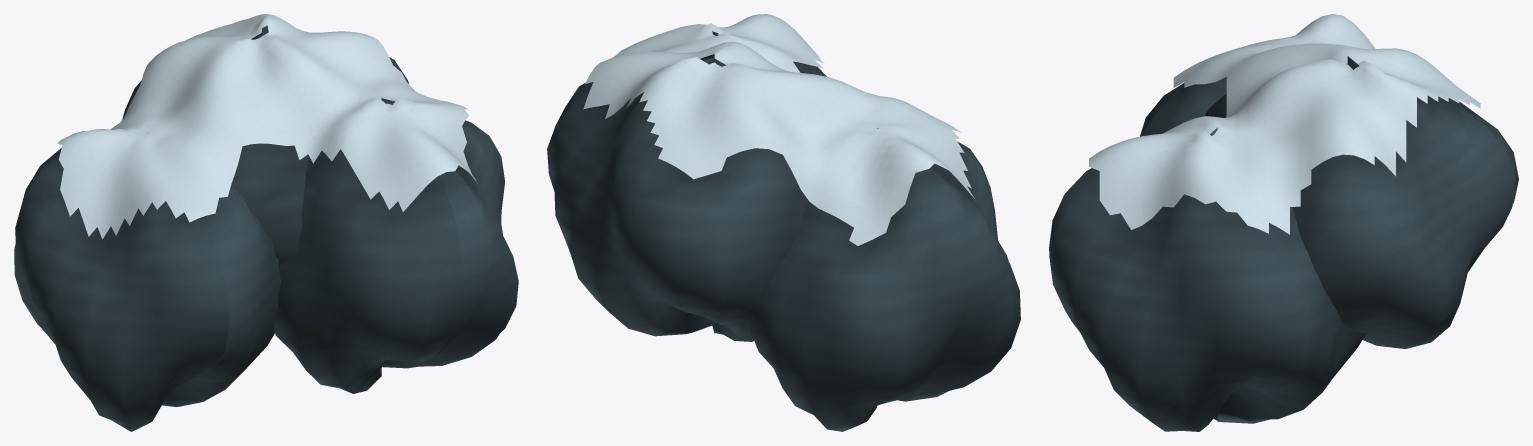
Rendered from snow_rock.glb.
3 renders of one model, left to right at view 1: azimuth 30°, elevation 25°; view 2: azimuth 150°, elevation 25°; view 3: azimuth 270°, elevation 25°, orthographic. The views are drawn at different scales.
Visible parts, largest first — view 1: snow_rock; view 2: snow_rock; view 3: snow_rock.
Boxes of the visible parts, box(x1,y1,x2,y2) form: snow_rock: box(14, 14, 518, 431); snow_rock: box(547, 14, 1020, 431); snow_rock: box(1049, 14, 1518, 431).
Size of the model in its own units: 1.38 by 0.9795 by 1.19.
Materials: 2 (2 with a texture image).
